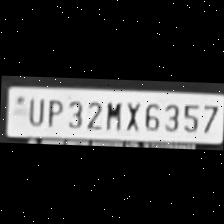2: (80, 96, 102, 129)
3: (160, 98, 178, 132), (64, 95, 82, 128)
5: (180, 99, 198, 132)
6: (138, 98, 160, 131)
7: (200, 100, 220, 133)
M: (100, 97, 122, 131)
P: (42, 95, 64, 127)
U: (24, 94, 43, 127)
X: (122, 98, 140, 132)
